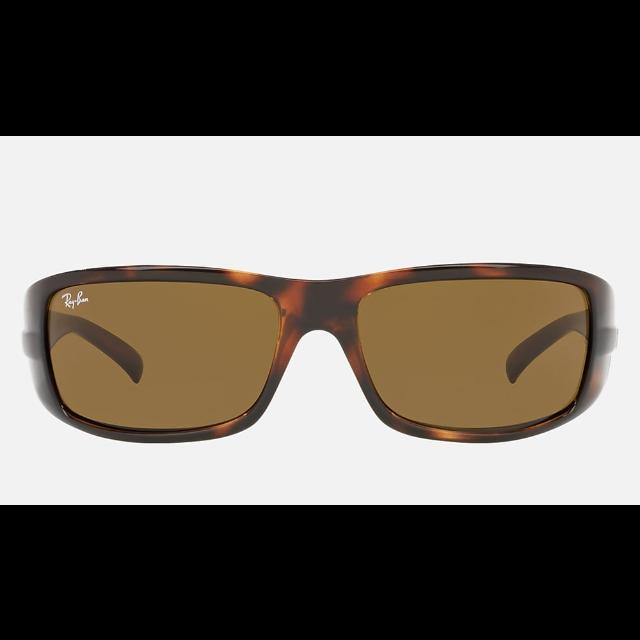Sunglasses: (24, 266, 618, 442)
